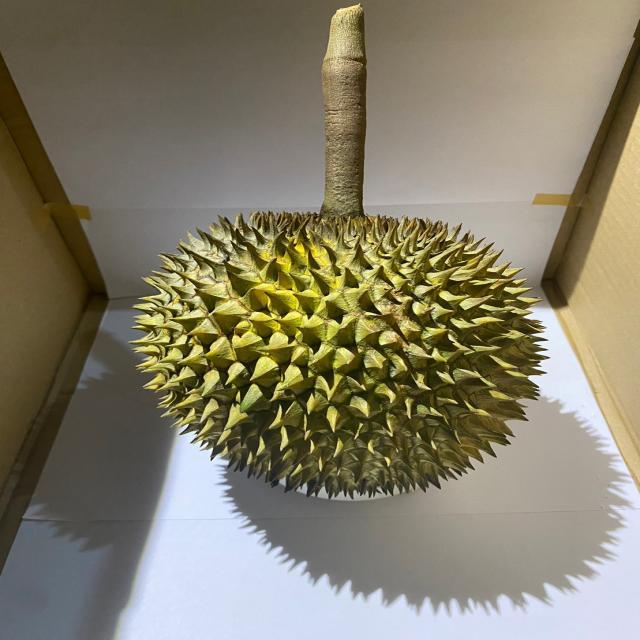immature: (124, 207, 551, 505)
